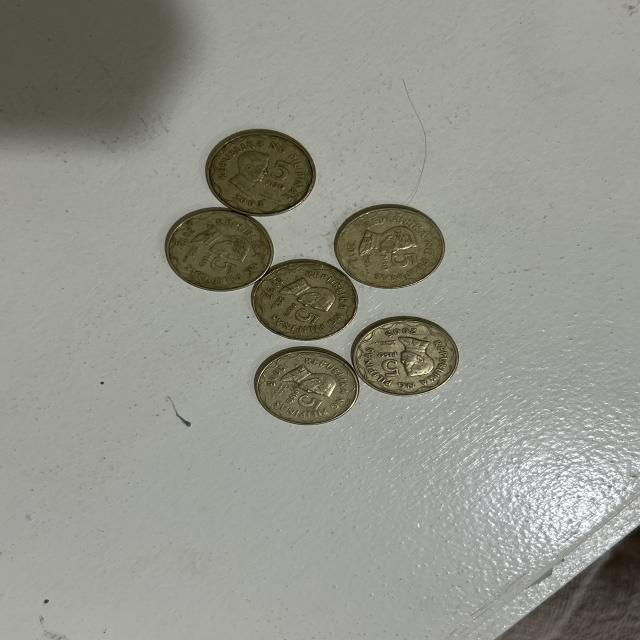5_Old_Front: (269, 296, 328, 330), (190, 247, 242, 281), (260, 157, 298, 194), (373, 346, 407, 387), (280, 386, 325, 415), (371, 250, 422, 274)
